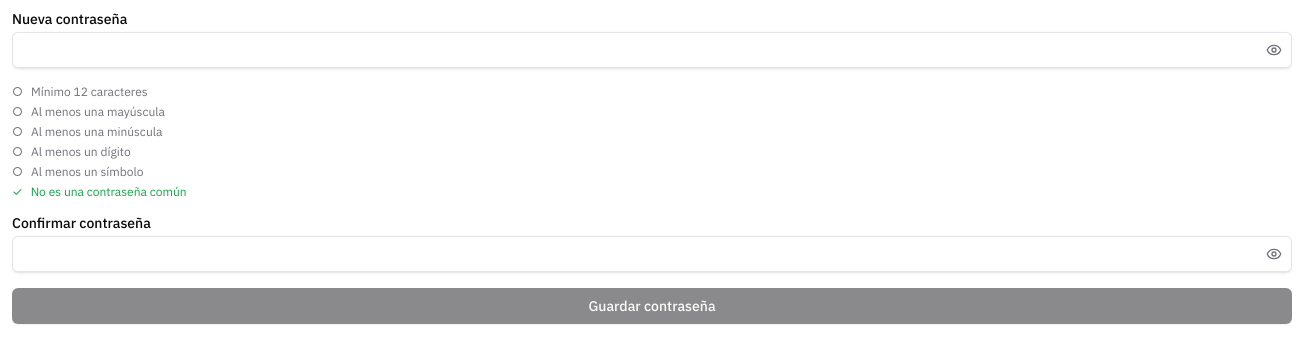
SetPasswordForm › shows error when passwords do not match
Check: the list named "Requisitos" is shown, box [12,84,187,199]
Type "Abc!1234567X" into the password field labelled "Nueva contraseña" at (652, 50), box [12,32,1292,68]
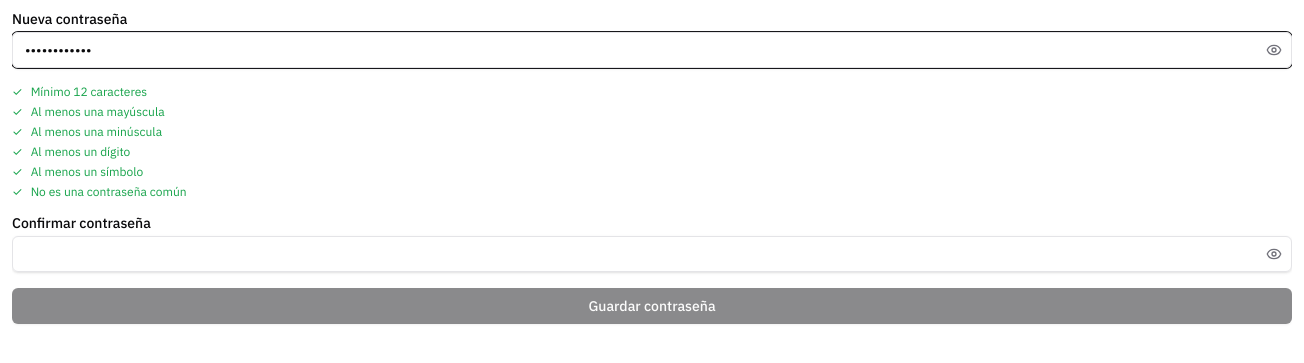
Type "Different!9X" into the password field labelled "Confirmar contraseña" at (652, 254), box [12,236,1292,272]
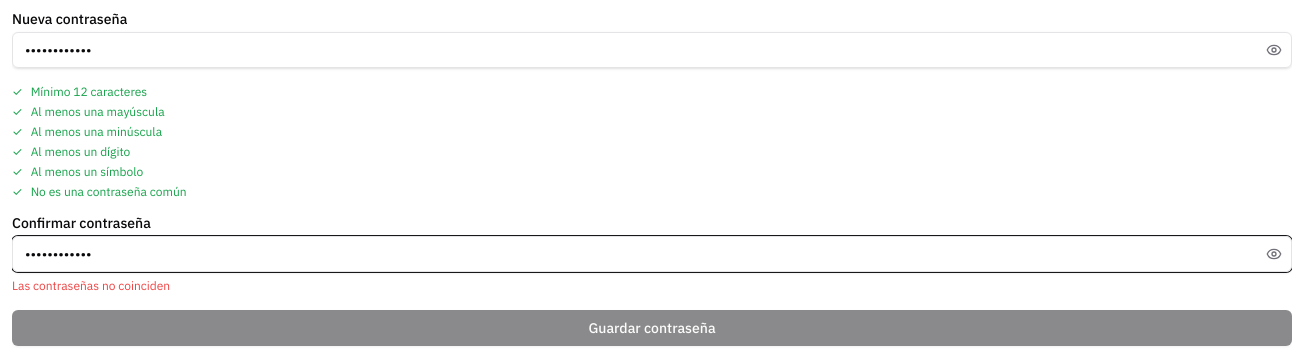
Check: the button "Guardar contraseña" is disabled, box [12,310,1292,346]
Check: the text "Las contraseñas no coinciden" is shown, box [12,278,170,293]
